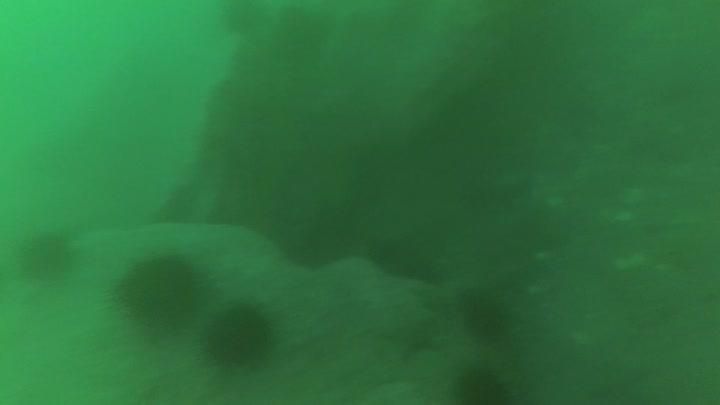echinus: (113, 250, 205, 335), (199, 299, 277, 372), (16, 228, 77, 284), (458, 287, 510, 342), (452, 364, 515, 405)
starfish: (366, 301, 444, 364)
